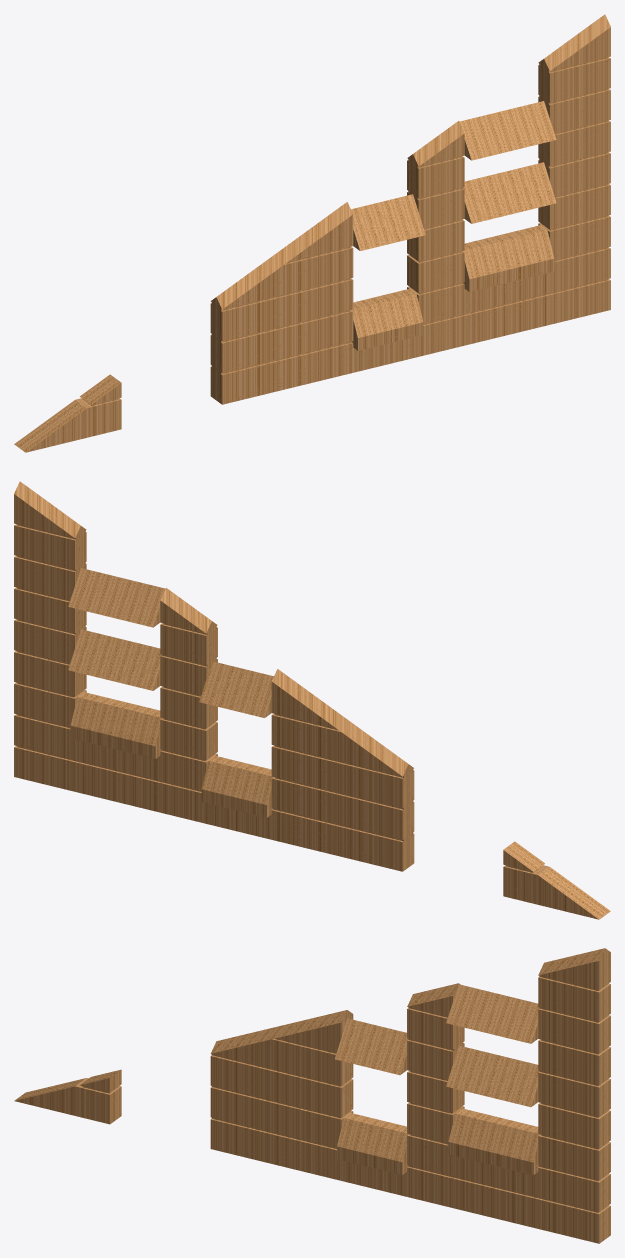
File: Bell.FBX
3 views of the same model, one above another, from view 1: azimuth 30°, elevation 25°; view 2: azimuth 150°, elevation 25°; view 3: azimuth 330°, elevation 25° (orthographic).
Visible parts, largest first — view 1: Model; view 2: Model; view 3: Model.
Part boxes in pixels (x1,y1,x2,y2): Model: (14, 14, 610, 452); Model: (14, 481, 610, 919); Model: (14, 948, 610, 1243).
Size of the model in its own units: 5.71 by 2.72 by 0.4331.
Materials: 1 (1 with a texture image).
